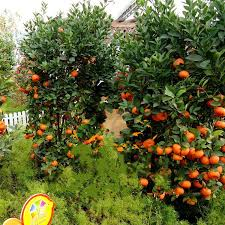orange: (170, 58, 186, 71), (176, 70, 190, 80), (170, 143, 181, 153)
